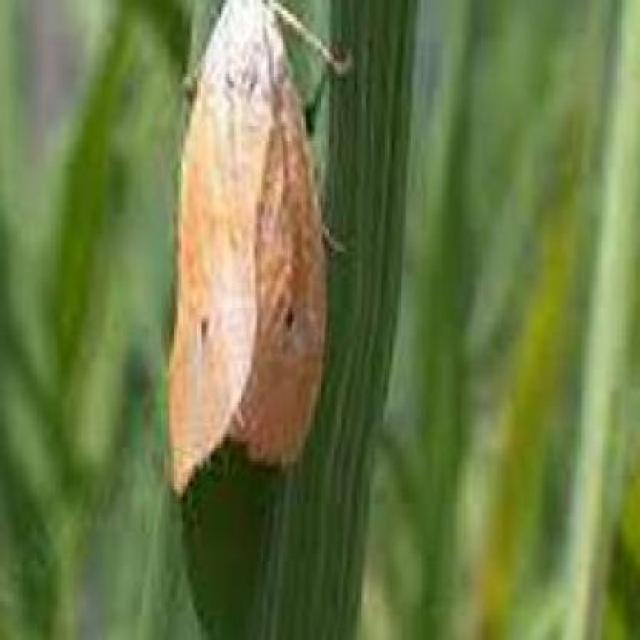stem-borer: (164, 0, 356, 514)
